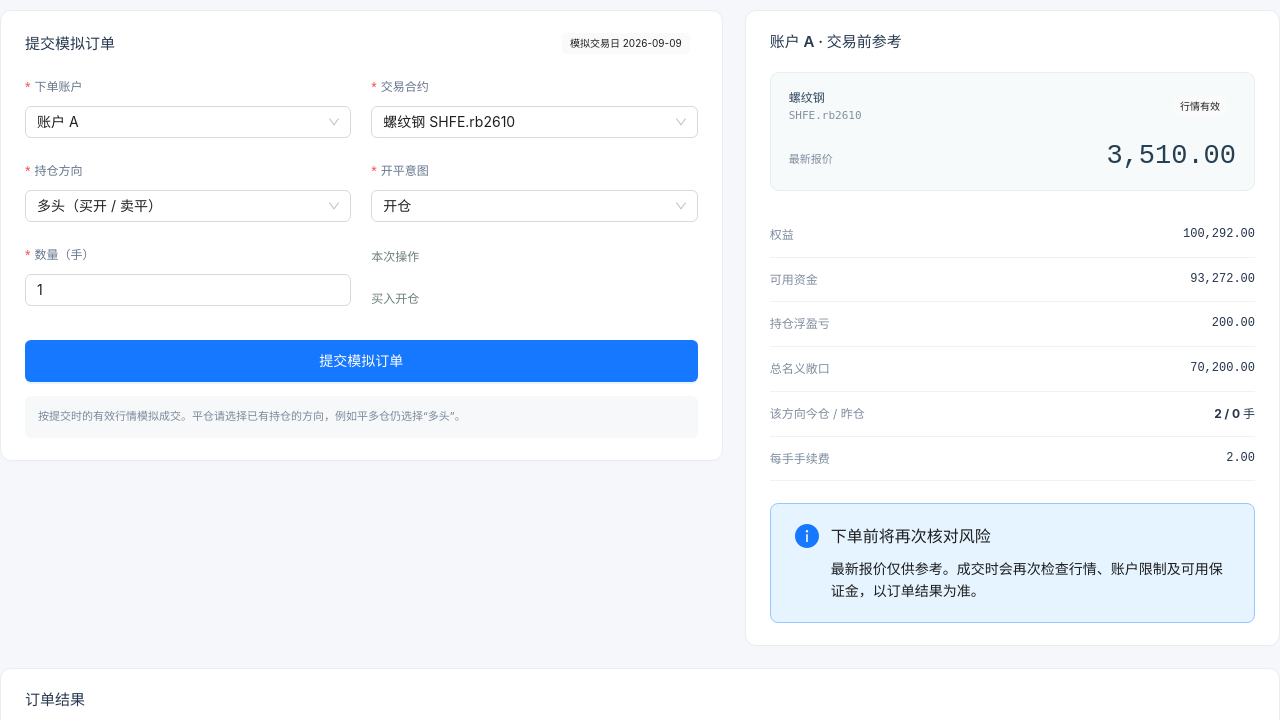
Test: 提交瞬间再次检查快照年龄，过期时不发送订单
(page scrolled)
Click the button "提交模拟订单": point(361, 361) [25, 340, 698, 382]
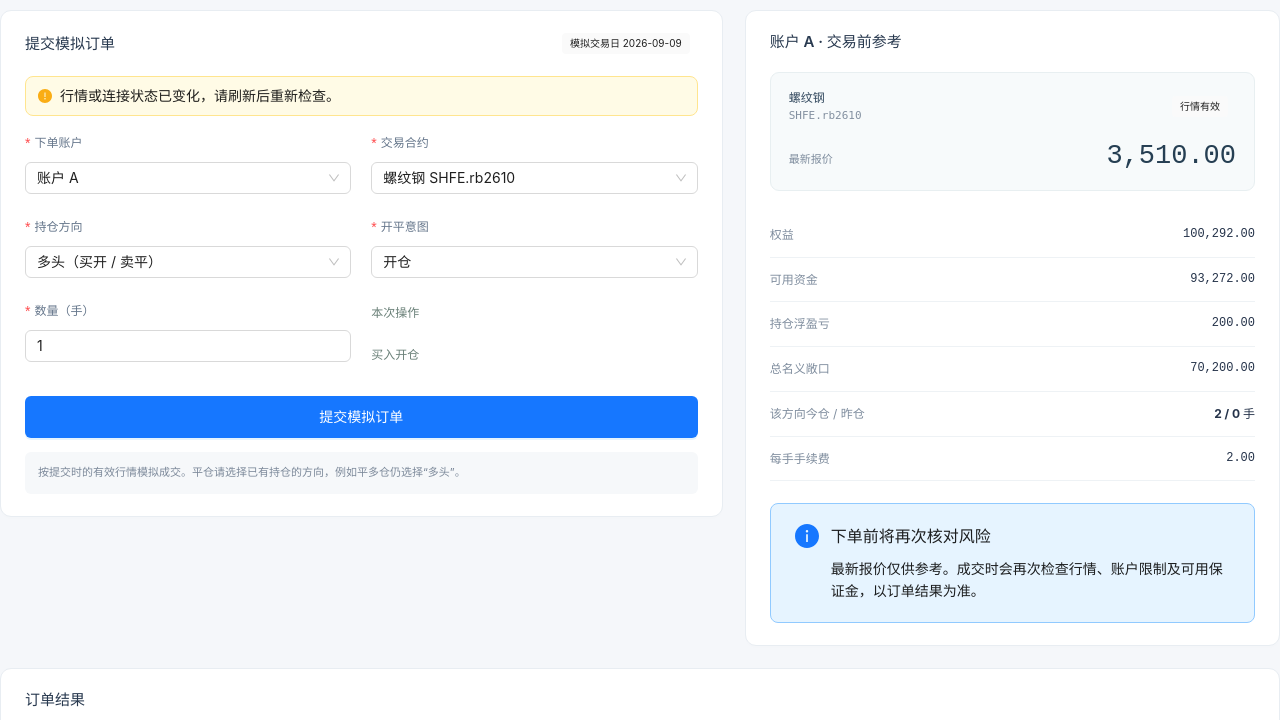
Check: the text "行情或连接状态已变化，请刷新后重新检查。" is shown, box [60, 87, 340, 104]
